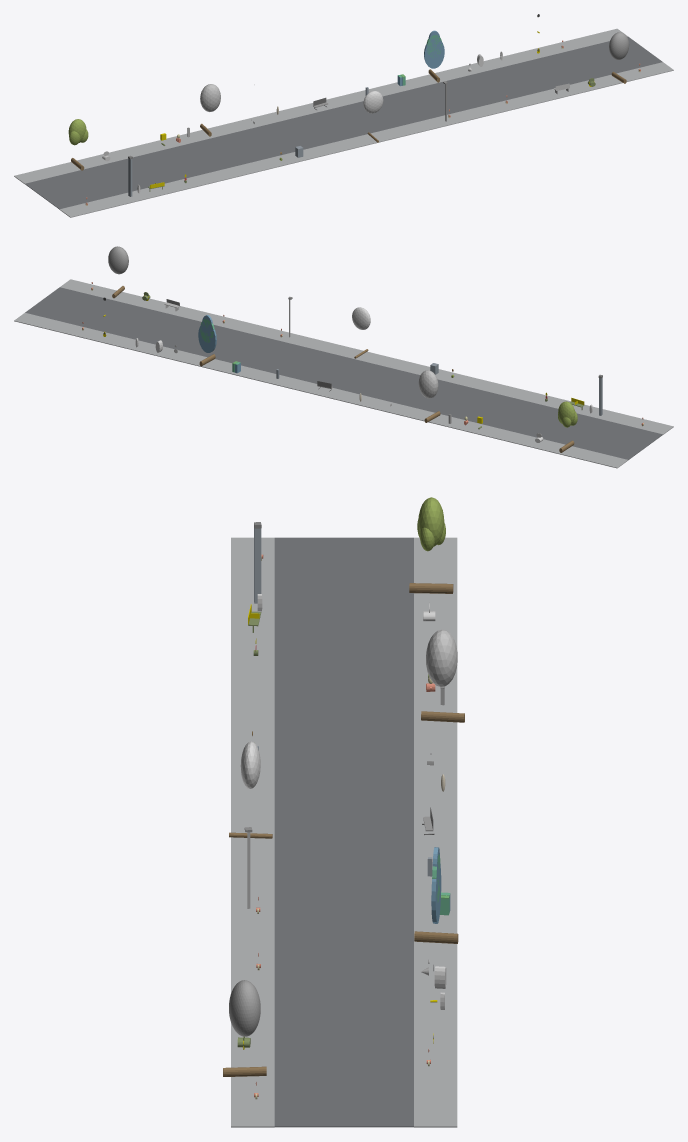
3 renders of one model, top to bottom at view 1: azimuth 30°, elevation 25°; view 2: azimuth 150°, elevation 25°; view 3: azimuth 270°, elevation 25°, orthographic. The views are drawn at different scales.
Visible parts, largest first — view 1: road_slab, sidewalk_left, sidewalk_right, inst_0015, inst_0013, inst_0016, inst_0012, inst_0014; view 2: road_slab, sidewalk_right, sidewalk_left, inst_0015, inst_0013, inst_0016, inst_0012, inst_0014; view 3: road_slab, sidewalk_left, sidewalk_right, inst_0013, inst_0016, inst_0012, inst_0015, inst_0014.
Boxes of the visible parts, left/top/right/bottom form: road_slab: left=25, top=36, right=662, bottom=209; sidewalk_left: left=59, top=62, right=673, bottom=217; sidewalk_right: left=14, top=28, right=627, bottom=183; inst_0015: left=424, top=30, right=444, bottom=82; inst_0013: left=200, top=84, right=220, bottom=136; inst_0016: left=609, top=32, right=629, bottom=83; inst_0012: left=68, top=119, right=88, bottom=170; inst_0014: left=363, top=91, right=383, bottom=142; road_slab: left=25, top=287, right=662, bottom=459; sidewalk_right: left=14, top=313, right=628, bottom=468; sidewalk_left: left=60, top=279, right=673, bottom=434; inst_0015: left=198, top=315, right=216, bottom=366; inst_0013: left=418, top=370, right=440, bottom=422; inst_0016: left=108, top=246, right=128, bottom=298; inst_0012: left=558, top=401, right=577, bottom=452; inst_0014: left=352, top=307, right=370, bottom=358; road_slab: left=274, top=537, right=413, bottom=1127; sidewalk_left: left=231, top=537, right=274, bottom=1127; sidewalk_right: left=414, top=537, right=457, bottom=1127; inst_0013: left=421, top=629, right=464, bottom=722; inst_0016: left=223, top=980, right=266, bottom=1076; inst_0012: left=409, top=497, right=453, bottom=593; inst_0015: left=414, top=847, right=458, bottom=943; inst_0014: left=229, top=741, right=272, bottom=838.
Size of the model in its own units: 80 by 6.08 by 13.91.
